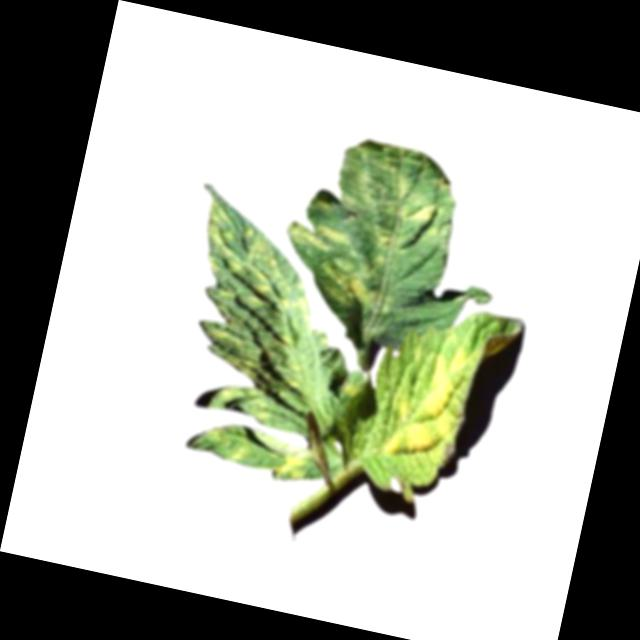Leaf_Mold: (165, 196, 347, 437), (380, 330, 475, 466), (276, 216, 389, 307), (391, 171, 451, 234), (278, 446, 312, 479)
